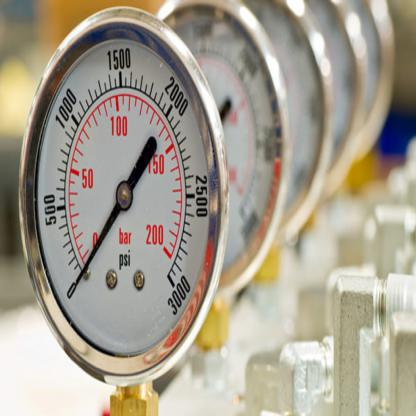needle: (76, 200, 122, 287)
